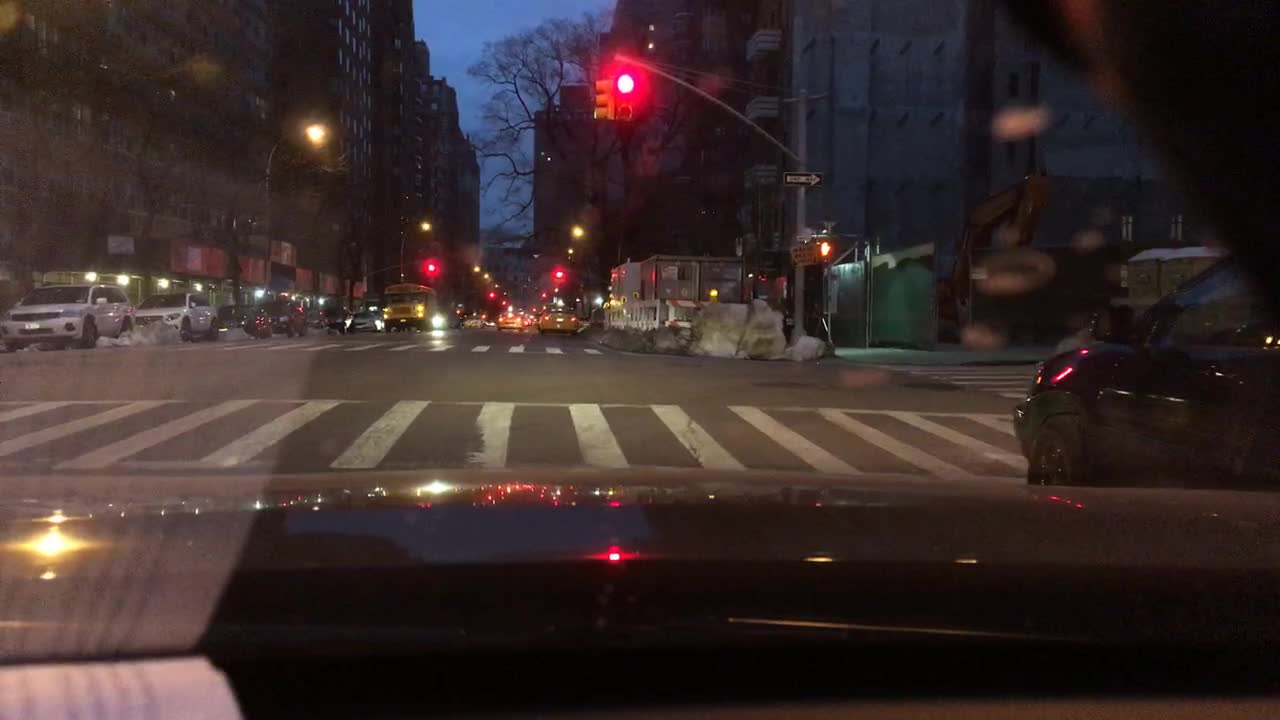bus: (379, 283, 436, 326)
car: (1011, 254, 1279, 491), (0, 281, 135, 348), (129, 290, 219, 341), (239, 293, 305, 338), (537, 298, 580, 335), (343, 305, 382, 332), (493, 308, 523, 332), (430, 304, 459, 326), (320, 311, 345, 329)
traffic light: (589, 74, 611, 119), (614, 69, 634, 115), (815, 234, 832, 259), (555, 268, 565, 285), (424, 259, 435, 274), (487, 289, 496, 303)
traffic sign: (784, 172, 826, 187)
